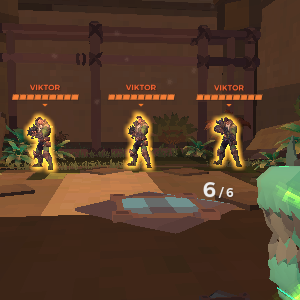model: (26, 108, 61, 172), (124, 113, 155, 180), (211, 113, 247, 167)
